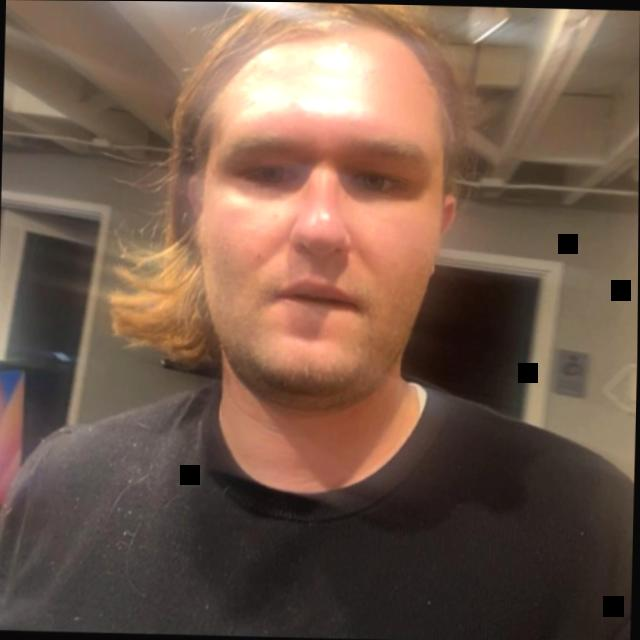NO-Mask: (124, 1, 465, 482)
